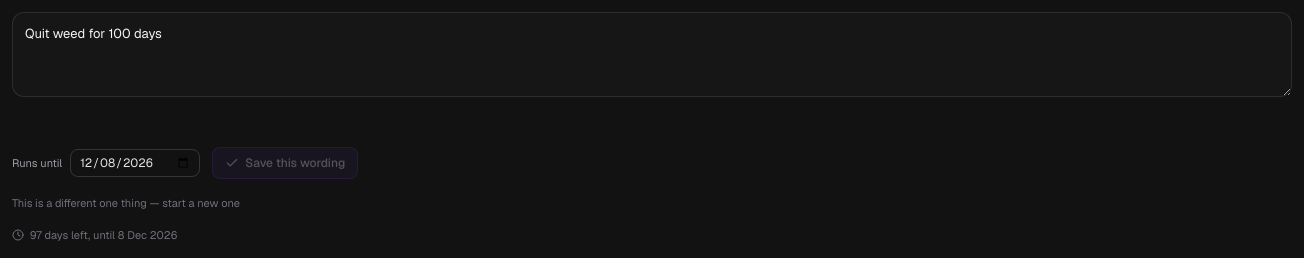
Test: the deadline is editable on its own › still offers to replace the sentence when the words change
The image size is (1304, 258).
Replace the text in the text box with "Quit vaping" at (652, 55), box [12,12,1292,97]
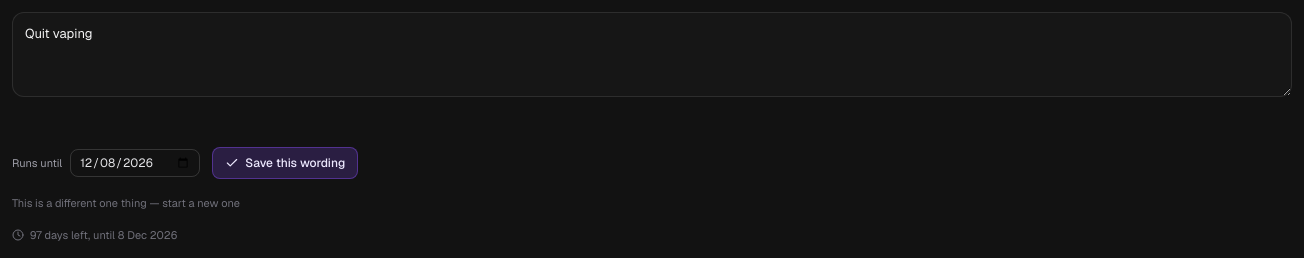
Expected: the button with test id "one-thing-save" reads "Save this wording", [212,147,358,179]
Expected: the button with test id "one-thing-save" is enabled, [212,147,358,179]
